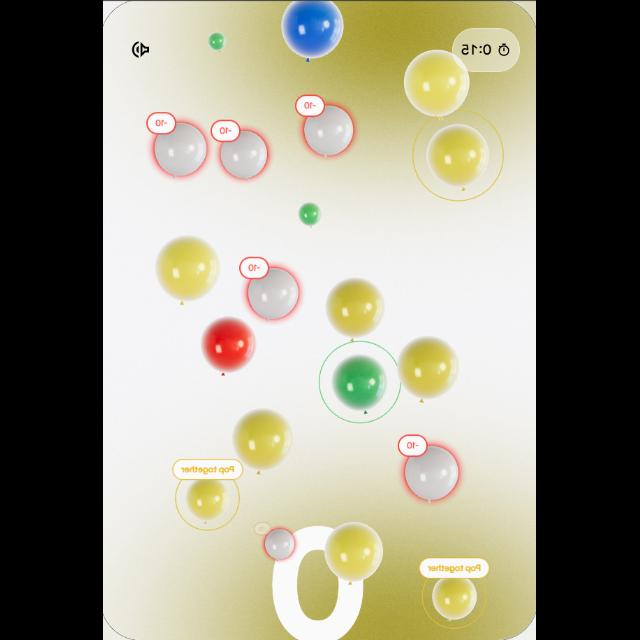hazard: (144, 106, 213, 182), (290, 95, 358, 163), (240, 255, 306, 325), (398, 436, 464, 504), (209, 118, 273, 184), (256, 518, 300, 566)
safe: (150, 235, 223, 308), (404, 44, 470, 120), (400, 332, 462, 406), (324, 274, 391, 342), (322, 521, 386, 587), (234, 408, 290, 474), (298, 200, 324, 227), (208, 27, 228, 54)
safe-pair: (418, 554, 490, 636), (173, 459, 241, 531)
sequence: (408, 109, 508, 208), (312, 338, 402, 426), (270, 0, 356, 70), (195, 316, 257, 382)
